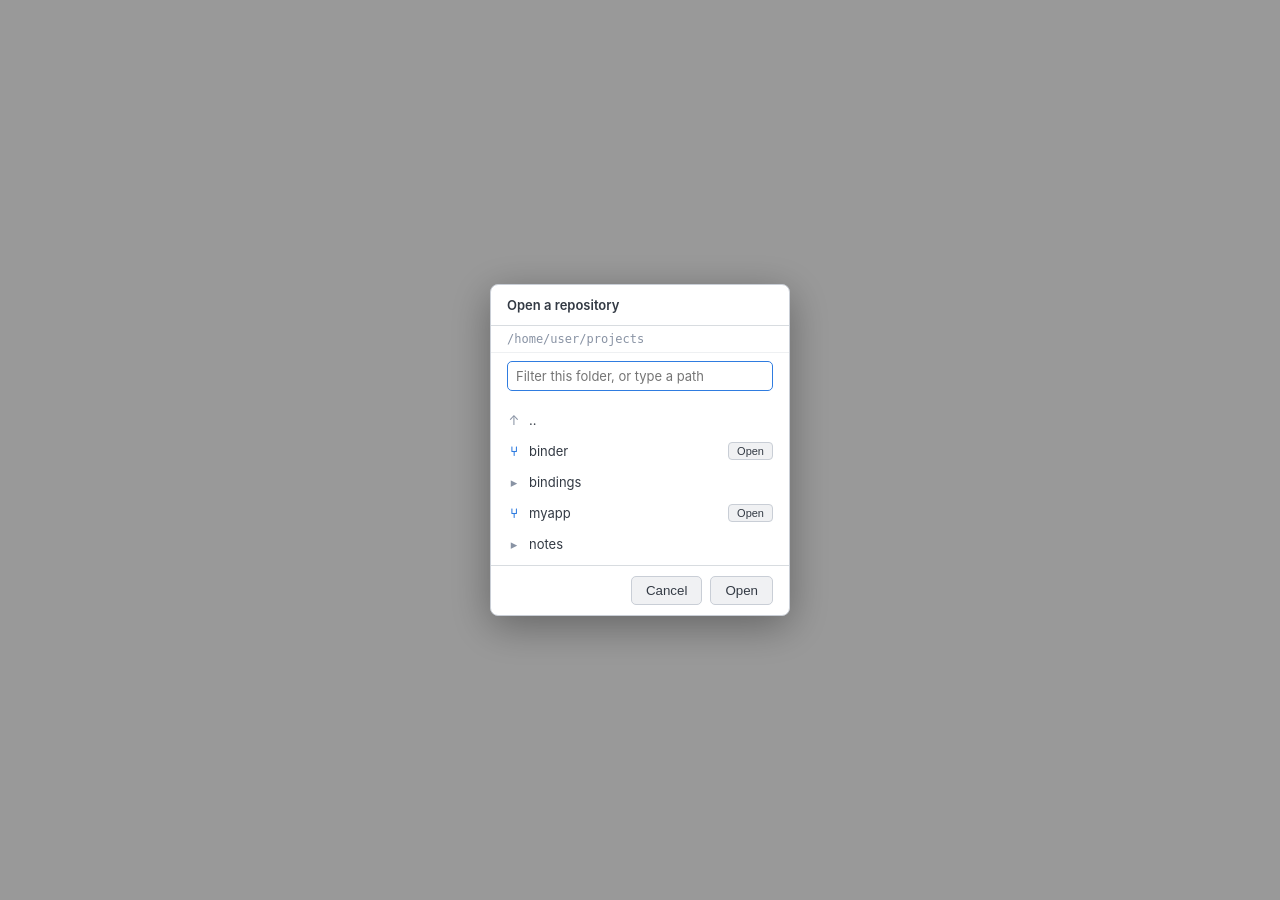
Test: RepoPicker search › counts nothing when nothing is showing, and says so distinctly
Expected: the text "notes" is shown, 529,536 -> 563,552
Type "zzzz" into the field with placeholder "Filter this folder, or type a path" at [640, 376], box 507,361 -> 773,391
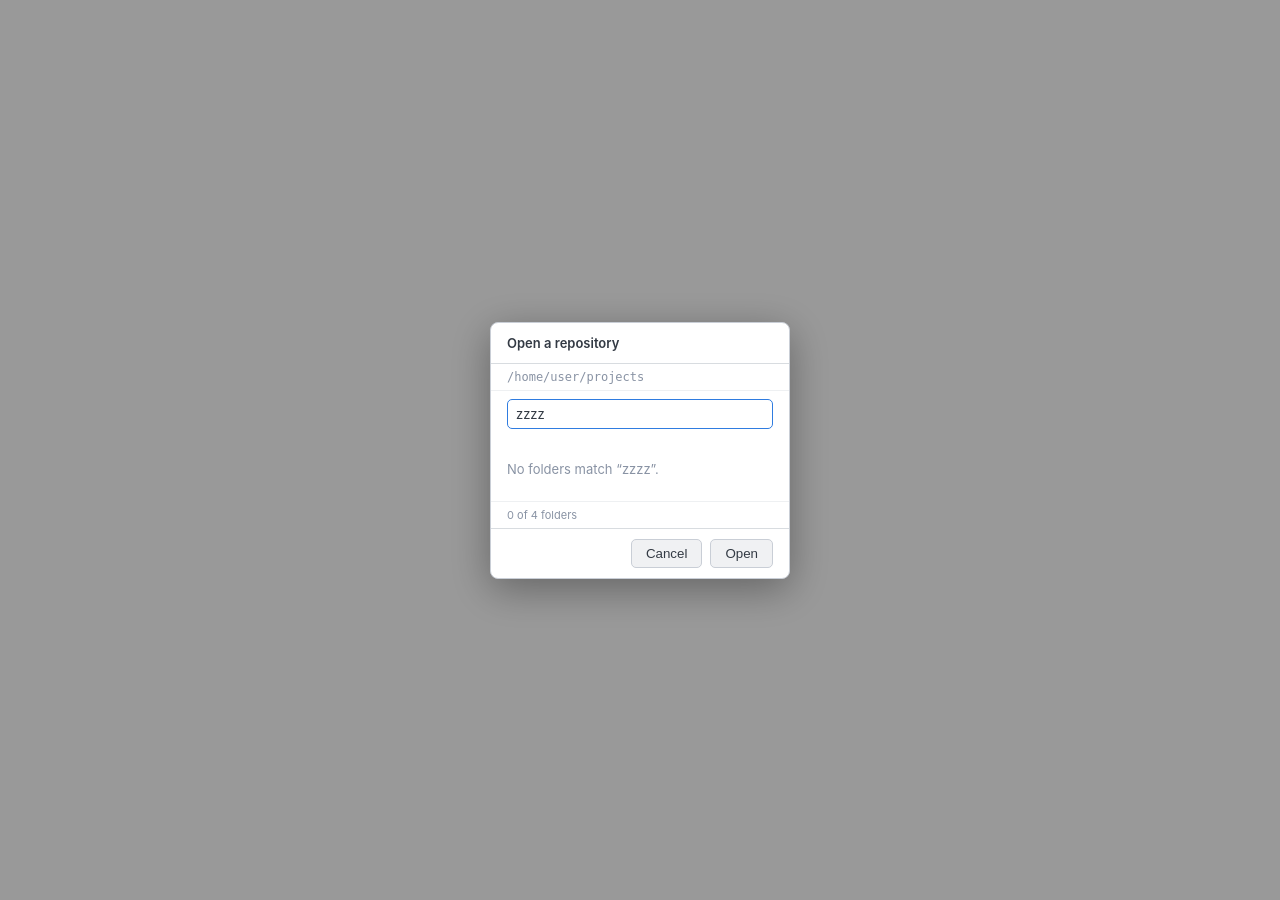
Result: the text "No folders match “zzzz”." is shown at 507,460 -> 659,476
